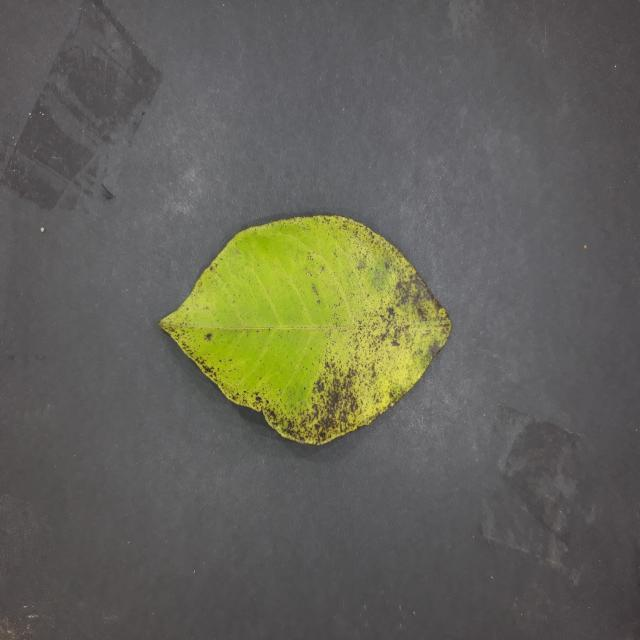greasy_spot: (159, 215, 451, 444)
